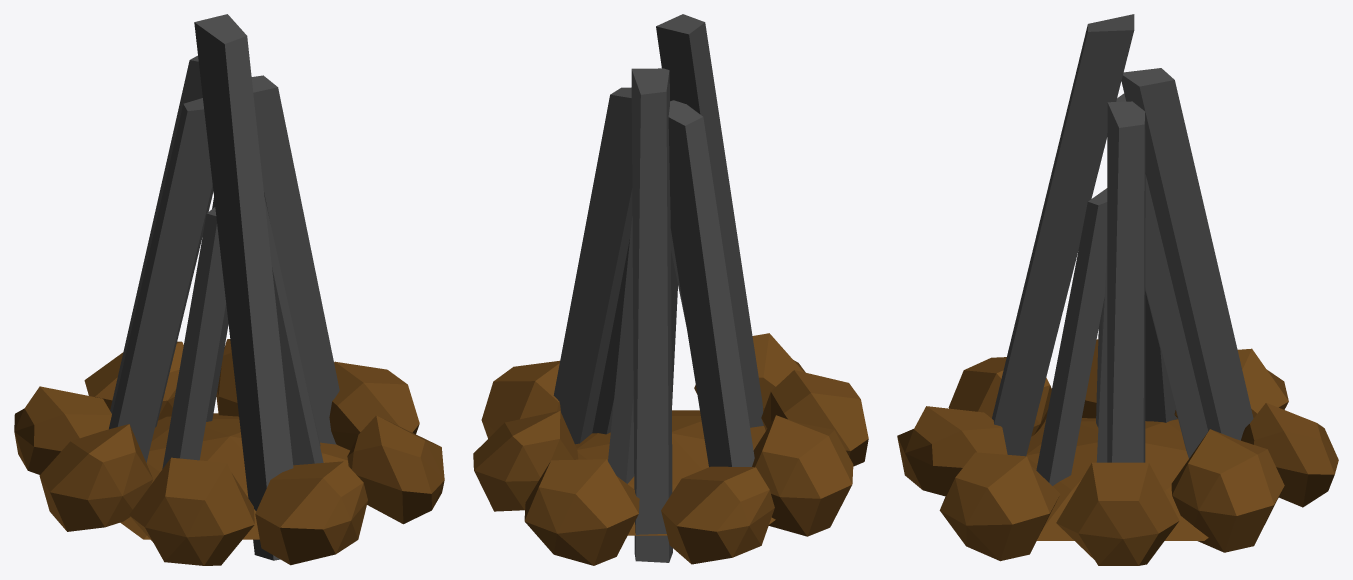
File: Bonfire01.fbx
The picture shows the model from 3 angles, left to right: view 1: azimuth 30°, elevation 25°; view 2: azimuth 150°, elevation 25°; view 3: azimuth 270°, elevation 25°; orthographic projection.
Visible parts, largest first — view 1: Bonfire01; view 2: Bonfire01; view 3: Bonfire01.
Part boxes in pixels (left/top/right/bottom): Bonfire01: left=14, top=14, right=444, bottom=565; Bonfire01: left=473, top=14, right=868, bottom=565; Bonfire01: left=897, top=14, right=1338, bottom=565.
Size of the model in its own units: 478 by 618 by 513.
